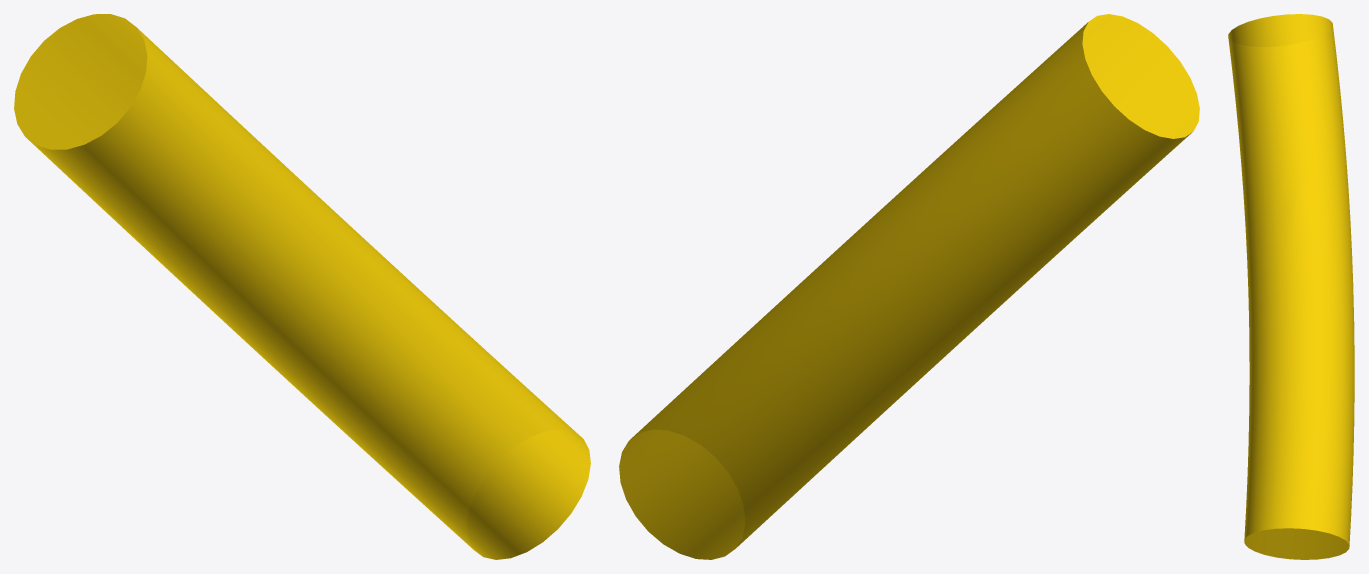
File: Event_420107950_track_59.fbx
3 renders of one model, left to right at view 1: azimuth 30°, elevation 25°; view 2: azimuth 150°, elevation 25°; view 3: azimuth 270°, elevation 25°, orthographic. The views are drawn at different scales.
Parts seen in each view (by area): view 1: Model; view 2: Model; view 3: Model.
Boxes of the visible parts, box(x1,y1,x2,y2) form: Model: box(14, 14, 590, 559); Model: box(619, 14, 1199, 559); Model: box(1228, 14, 1354, 559).
Size of the model in its own units: 0.1656 by 0.1775 by 0.0477.
